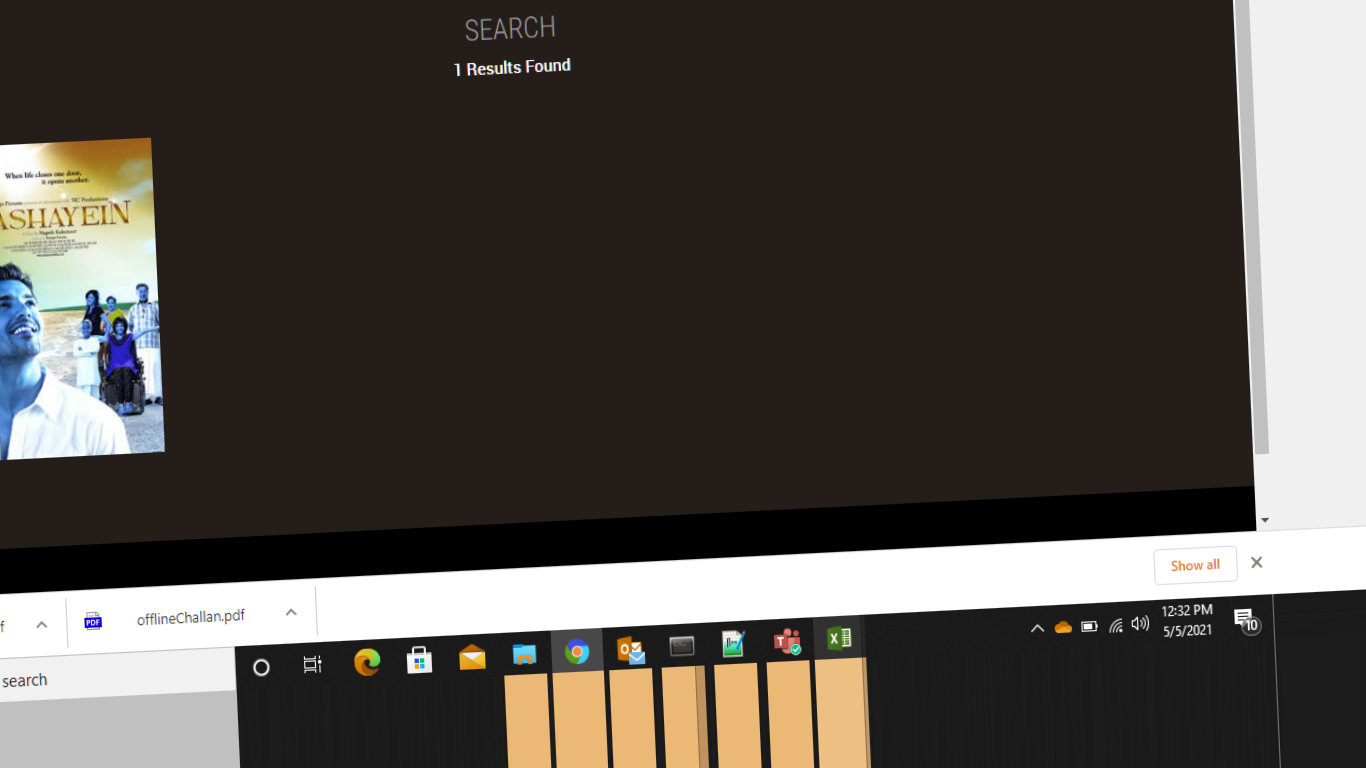resultsfound: (415, 45, 614, 88)
